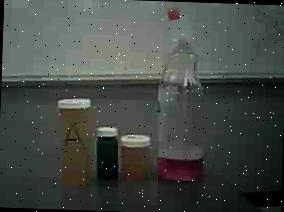Bottle A: (50, 93, 96, 188)
Bottle B: (119, 122, 152, 186)
Bottle C: (90, 116, 124, 186)
hazard: (146, 1, 224, 184)
